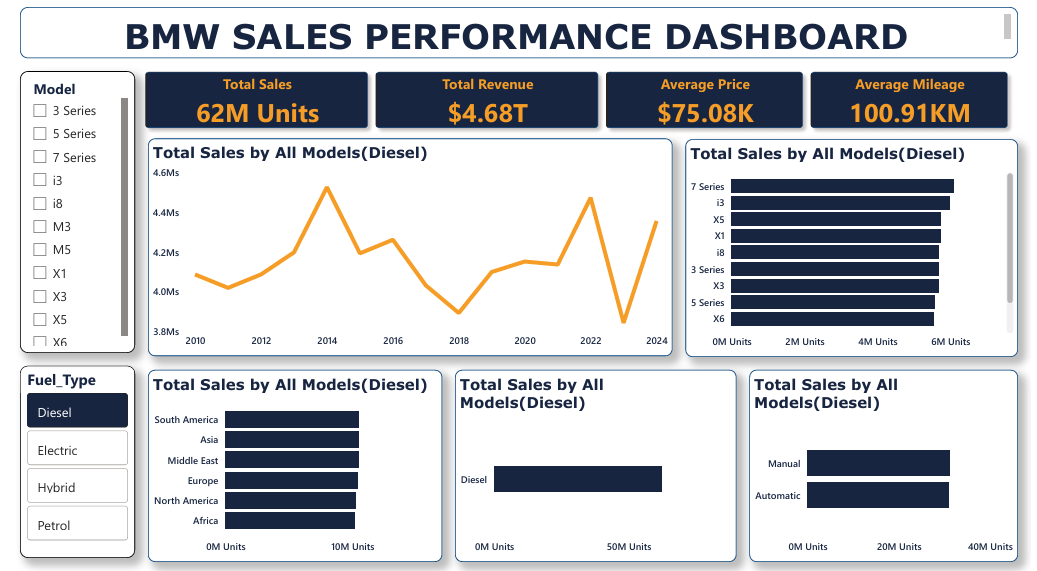

The page's visual inventory and layout, read from the dashboard file:
{"tool":"powerbi","page":{"name":"Page 1","canvas":[1280,720],"ordinal":0},"visuals":[{"type":"textbox","box":[16,16,1248,64],"z":0},{"type":"lineChart","fields":{"Category":["BMW sales data (2010-2024) (1).Year"],"Y":["BMW sales data (2010-2024) (1).Total Sales"]},"box":[176,179.9,656,272],"z":1000},{"type":"barChart","fields":{"Category":["BMW sales data (2010-2024) (1).Region"],"Y":["BMW sales data (2010-2024) (1).Total Sales"]},"box":[176,469.3,368,240],"z":2000},{"type":"barChart","fields":{"Category":["BMW sales data (2010-2024) (1).Model"],"Y":["BMW sales data (2010-2024) (1).Total Sales"]},"box":[848,181.3,416,272],"z":3000},{"type":"barChart","fields":{"Category":["BMW sales data (2010-2024) (1).Fuel_Type"],"Y":["BMW sales data (2010-2024) (1).Total Sales"]},"box":[560,469.3,352,240],"z":4000},{"type":"barChart","fields":{"Category":["BMW sales data (2010-2024) (1).Transmission"],"Y":["BMW sales data (2010-2024) (1).Total Sales"]},"box":[928,469.3,336,240],"z":5000},{"type":"advancedSlicerVisual","fields":{"Values":["BMW sales data (2010-2024) (1).Fuel_Type"]},"box":[16,464,144,240],"z":6000},{"type":"cardVisual","fields":{"Data":["BMW sales data (2010-2024) (1).Total Sales"]},"box":[144,67.9,336,128],"z":7000},{"type":"slicer","fields":{"Values":["BMW sales data (2010-2024) (1).Model"]},"box":[16,96,144,352],"z":8000},{"type":"cardVisual","fields":{"Data":["BMW sales data (2010-2024) (1).Total Revenue"]},"box":[432,67.9,336,128],"z":9000},{"type":"cardVisual","fields":{"Data":["BMW sales data (2010-2024) (1).Average Price"]},"box":[720,67.9,304,128],"z":10000},{"type":"cardVisual","fields":{"Data":["BMW sales data (2010-2024) (1).Average Mileage"]},"box":[976,67.9,304,128],"z":11000}]}

Visuals, with their boxes in screenshot pixels (x1, y1, x2, y2), scaled from the page's 1280x720 canvas onto the 1037x571 screenshot:
textbox: select_region(13, 13, 1024, 63)
lineChart - BMW sales data (2010-2024) (1).Year x BMW sales data (2010-2024) (1).Total Sales: select_region(143, 143, 674, 358)
barChart - BMW sales data (2010-2024) (1).Region x BMW sales data (2010-2024) (1).Total Sales: select_region(143, 372, 441, 563)
barChart - BMW sales data (2010-2024) (1).Model x BMW sales data (2010-2024) (1).Total Sales: select_region(687, 144, 1024, 359)
barChart - BMW sales data (2010-2024) (1).Fuel_Type x BMW sales data (2010-2024) (1).Total Sales: select_region(454, 372, 739, 563)
barChart - BMW sales data (2010-2024) (1).Transmission x BMW sales data (2010-2024) (1).Total Sales: select_region(752, 372, 1024, 563)
advancedSlicerVisual - BMW sales data (2010-2024) (1).Fuel_Type: select_region(13, 368, 130, 558)
cardVisual - BMW sales data (2010-2024) (1).Total Sales: select_region(117, 54, 389, 155)
slicer - BMW sales data (2010-2024) (1).Model: select_region(13, 76, 130, 355)
cardVisual - BMW sales data (2010-2024) (1).Total Revenue: select_region(350, 54, 622, 155)
cardVisual - BMW sales data (2010-2024) (1).Average Price: select_region(583, 54, 830, 155)
cardVisual - BMW sales data (2010-2024) (1).Average Mileage: select_region(791, 54, 1036, 155)
